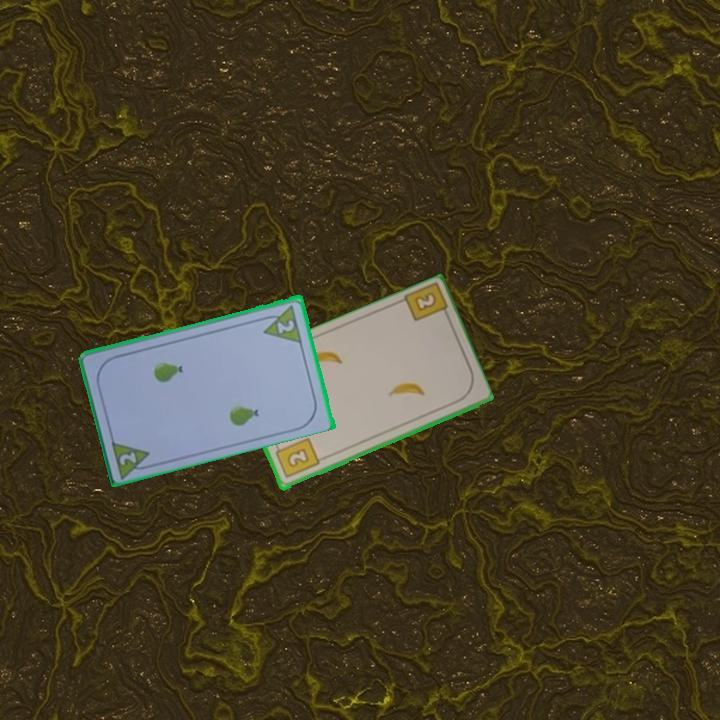2b: (399, 281, 453, 325), (272, 434, 322, 481)
2p: (115, 448, 140, 468), (274, 316, 297, 336)
